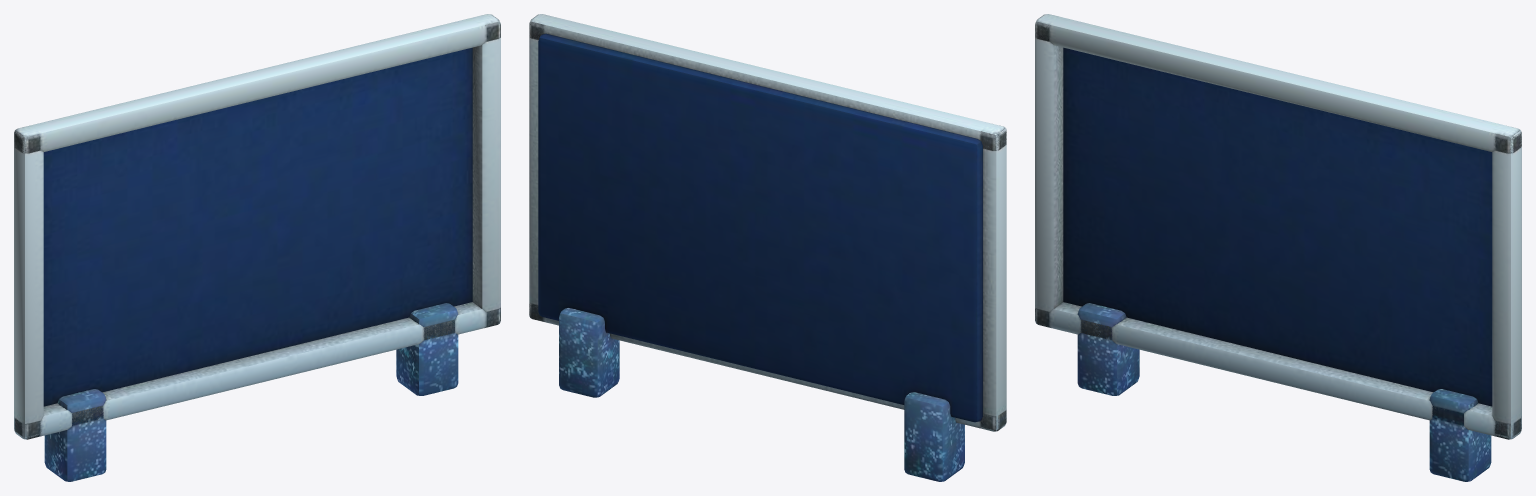
The model's file is scout_frost.glb.
3 renders of one model, left to right at view 1: azimuth 30°, elevation 25°; view 2: azimuth 150°, elevation 25°; view 3: azimuth 330°, elevation 25°, orthographic.
Parts seen in each view (by area): view 1: scout_frost; view 2: scout_frost; view 3: scout_frost.
Boxes of the visible parts, <box> form: scout_frost: <box>14,14,500,481</box>; scout_frost: <box>529,14,1006,481</box>; scout_frost: <box>1035,14,1521,481</box>.
Bounding box in the file's own units: 13.6 × 9.75 × 1.2.
1 material, 1 textured.
